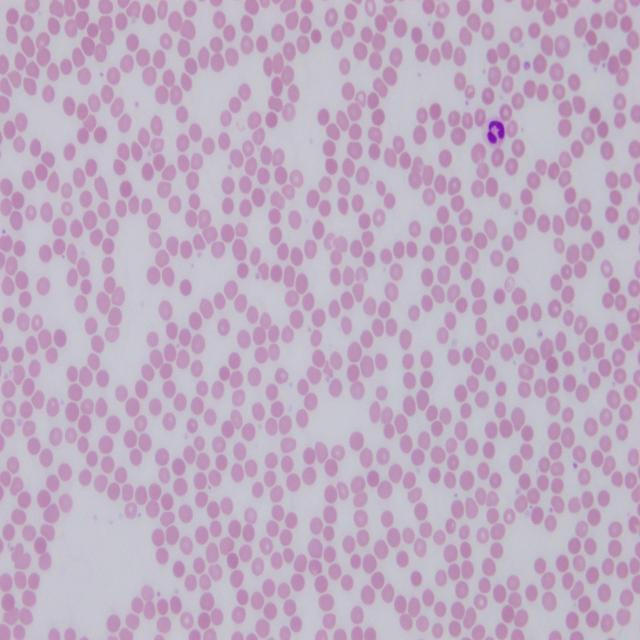cell: (488, 120, 505, 143)
